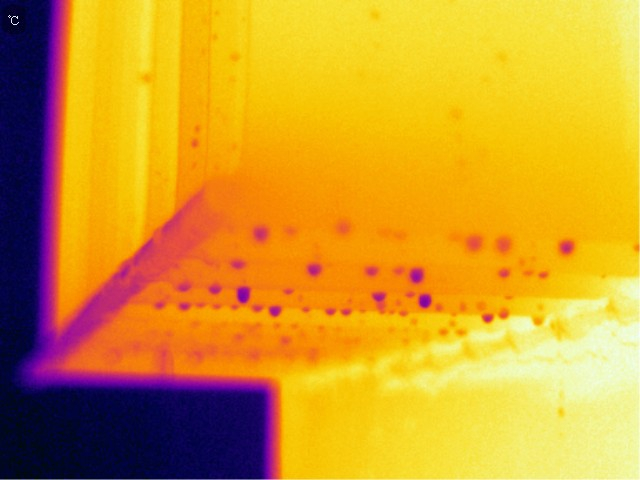Water: (175, 282, 225, 299), (550, 234, 584, 259), (245, 222, 274, 250), (438, 319, 468, 342), (479, 308, 515, 327), (328, 217, 359, 238), (370, 286, 391, 314), (272, 278, 301, 298), (404, 264, 432, 283), (417, 290, 441, 311), (461, 232, 486, 251), (232, 284, 255, 304), (490, 234, 512, 253), (534, 265, 552, 288), (266, 300, 285, 321), (226, 258, 253, 272), (304, 261, 326, 276), (321, 303, 339, 321), (363, 259, 380, 278), (491, 265, 511, 281), (338, 302, 353, 322), (177, 298, 194, 315), (297, 302, 315, 318), (150, 297, 164, 315), (197, 301, 209, 311)
